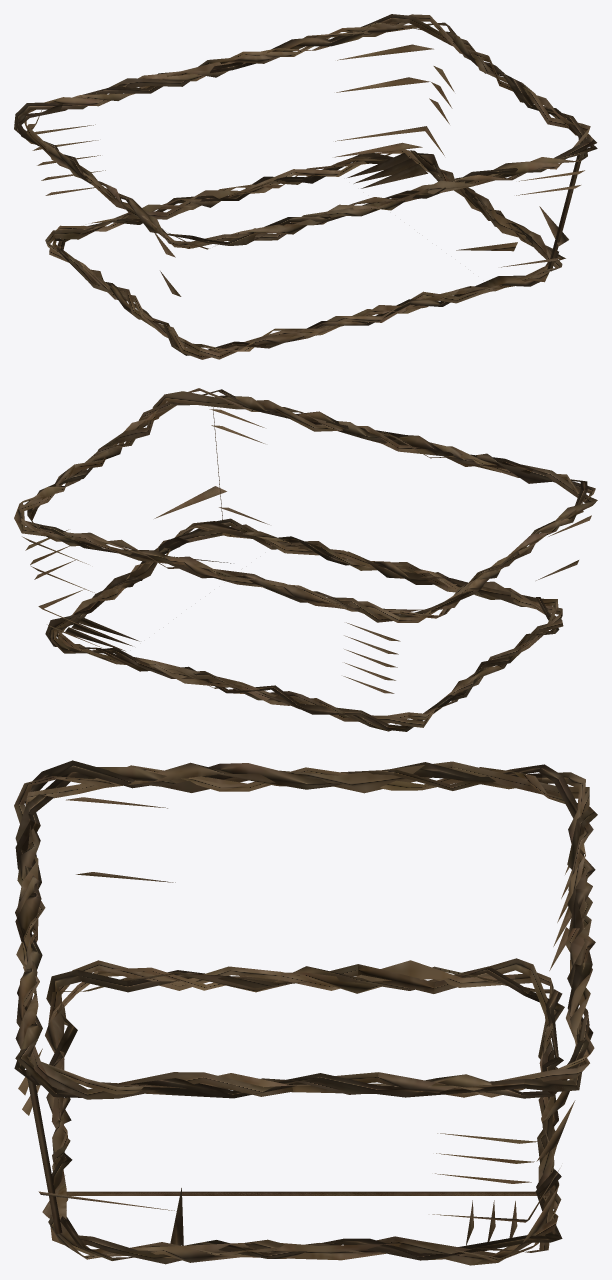
The model's file is wicker_basket_01.glb.
3 renders of one model, top to bottom at view 1: azimuth 30°, elevation 25°; view 2: azimuth 150°, elevation 25°; view 3: azimuth 270°, elevation 25°, orthographic. The views are drawn at different scales.
Visible parts, largest first — view 1: wicker_basket_01; view 2: wicker_basket_01; view 3: wicker_basket_01.
Boxes of the visible parts, left/top/right/bottom form: wicker_basket_01: left=14, top=14, right=597, bottom=359; wicker_basket_01: left=14, top=388, right=597, bottom=731; wicker_basket_01: left=14, top=760, right=597, bottom=1265.
Size of the model in its own units: 0.383 by 0.117 by 0.2929.
Materials: 1 (1 with a texture image).
